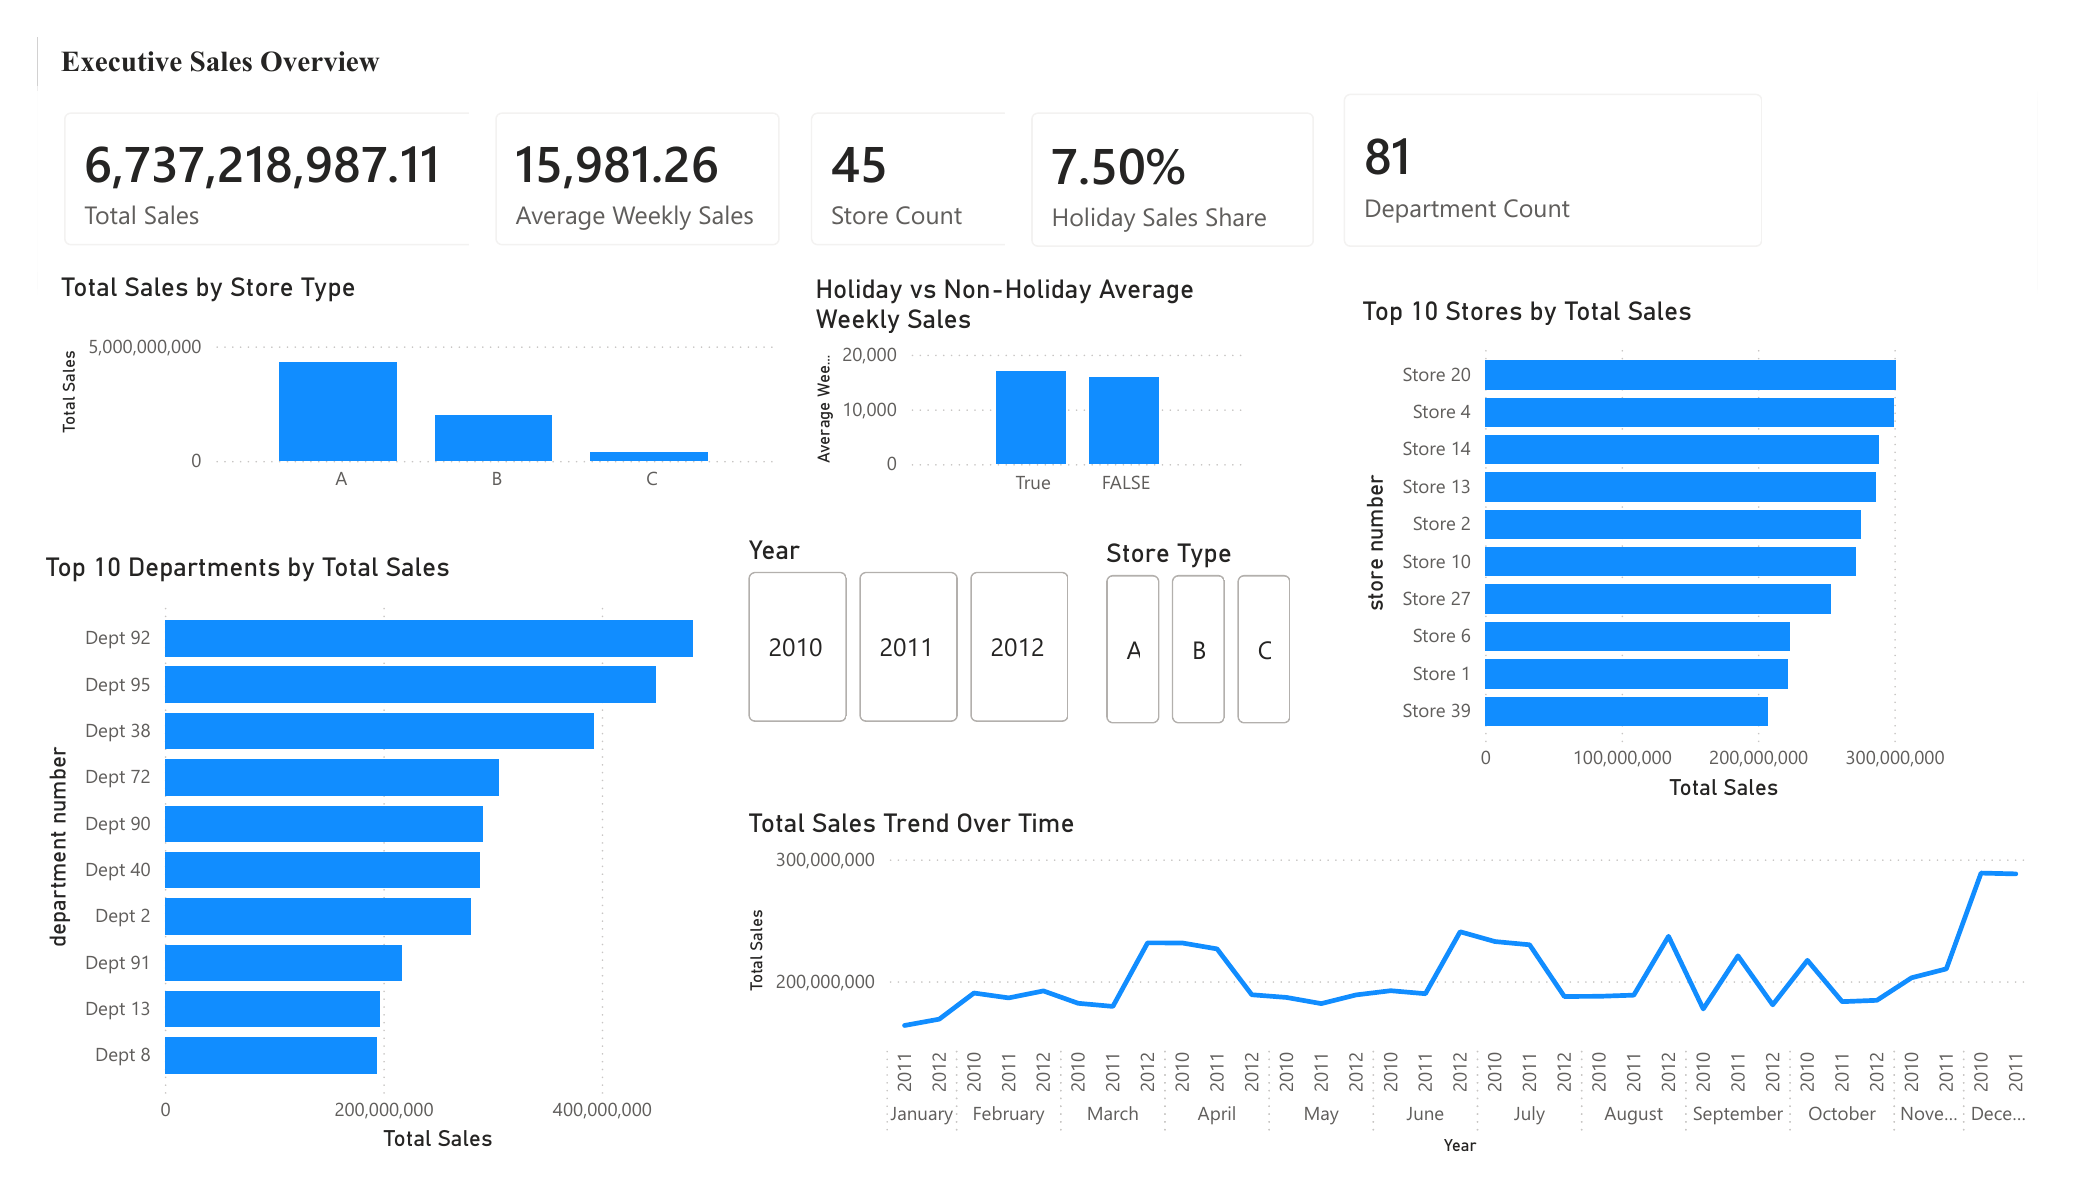

What the dashboard file says about the page in this screenshot:
{"tool":"powerbi","page":{"name":"Page1","canvas":[1280,720],"ordinal":0},"visuals":[{"type":"textbox","box":[10,0,310,42],"z":0},{"type":"cardVisual","fields":{"Data":["features.Total Sales"]},"box":[0,31.4,299.1,118.7],"z":1000},{"type":"cardVisual","fields":{"Data":["features.Average Weekly Sales"]},"box":[275.8,31.4,216.4,118.7],"z":2000},{"type":"cardVisual","fields":{"Data":["features.Store Count"]},"box":[478.3,31.4,161.7,118.7],"z":3000},{"type":"cardVisual","fields":{"Data":["features.Department Count"]},"box":[819.2,18.6,301.4,132.7],"z":4000},{"type":"cardVisual","fields":{"Data":["features.Holiday Sales Share"]},"box":[619.1,31.4,215.3,119.9],"z":5000},{"type":"clusteredColumnChart","title":"Total Sales by Store Type","fields":{"Category":["stores.Type"],"Y":["features.Total Sales"]},"box":[10,150,467.5,151.2],"z":6000},{"type":"clusteredColumnChart","title":"Holiday vs Non-Holiday Average Weekly Sales","fields":{"Category":["train.IsHoliday"],"Y":["features.Average Weekly Sales"]},"box":[492.5,151.2,286.2,151.2],"z":7000},{"type":"clusteredBarChart","title":"Top 10 Stores by Total Sales","fields":{"Category":["train.Store Label"],"Y":["features.Total Sales"]},"box":[842.5,165,426.2,327.5],"z":8000},{"type":"clusteredBarChart","title":"Top 10 Departments by Total Sales","fields":{"Category":["train.Dept Label"],"Y":["features.Total Sales"]},"box":[0,328.8,467.5,388.8],"z":9000},{"type":"lineChart","title":"Total Sales Trend Over Time","fields":{"Category":["features.Date.变体.日期层次结构.月份","features.Date.变体.日期层次结构.年"],"Y":["features.Total Sales"]},"box":[450,492.5,830,227.5],"z":10000},{"type":"advancedSlicerVisual","fields":{"Values":["train.Year"]},"box":[450,318.3,216.7,125],"z":11000},{"type":"advancedSlicerVisual","title":"Store Type","fields":{"Values":["stores.Type"]},"box":[678.8,320,128.8,123.8],"z":12000}]}

Visuals, with their boxes on the page's 1280x720 design canvas (x1, y1, x2, y2). These are canvas units, not pixel positions in the 2075x1200 screenshot, which may show the page scaled, cropped or inside an application window:
textbox: pyautogui.locateOnScreen(10, 0, 320, 42)
cardVisual - features.Total Sales: pyautogui.locateOnScreen(0, 31, 299, 150)
cardVisual - features.Average Weekly Sales: pyautogui.locateOnScreen(276, 31, 492, 150)
cardVisual - features.Store Count: pyautogui.locateOnScreen(478, 31, 640, 150)
cardVisual - features.Department Count: pyautogui.locateOnScreen(819, 19, 1121, 151)
cardVisual - features.Holiday Sales Share: pyautogui.locateOnScreen(619, 31, 834, 151)
"Total Sales by Store Type" clusteredColumnChart: pyautogui.locateOnScreen(10, 150, 478, 301)
"Holiday vs Non-Holiday Average Weekly Sales" clusteredColumnChart: pyautogui.locateOnScreen(492, 151, 779, 302)
"Top 10 Stores by Total Sales" clusteredBarChart: pyautogui.locateOnScreen(842, 165, 1269, 492)
"Top 10 Departments by Total Sales" clusteredBarChart: pyautogui.locateOnScreen(0, 329, 468, 718)
"Total Sales Trend Over Time" lineChart: pyautogui.locateOnScreen(450, 492, 1280, 720)
advancedSlicerVisual - train.Year: pyautogui.locateOnScreen(450, 318, 667, 443)
"Store Type" advancedSlicerVisual: pyautogui.locateOnScreen(679, 320, 808, 444)
